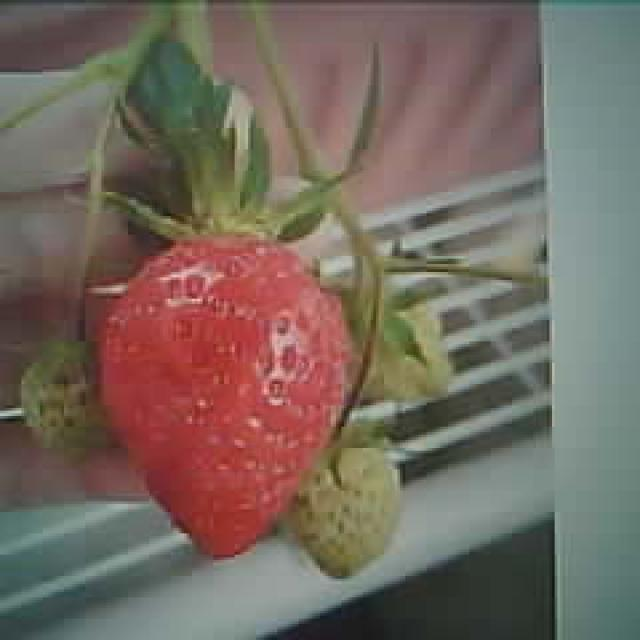Healthy Fruit: (94, 231, 361, 558)
